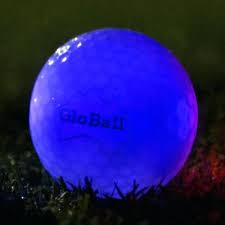blue ball: (26, 27, 199, 198)
